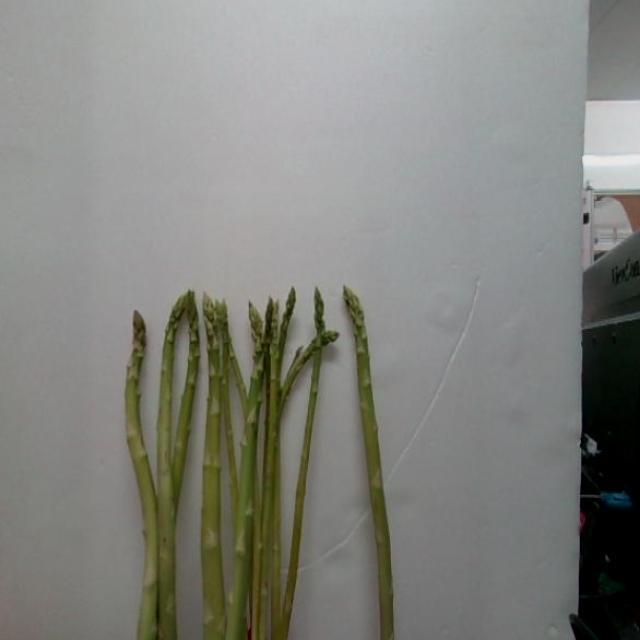aspargus: (344, 288, 398, 640), (124, 314, 163, 640)
